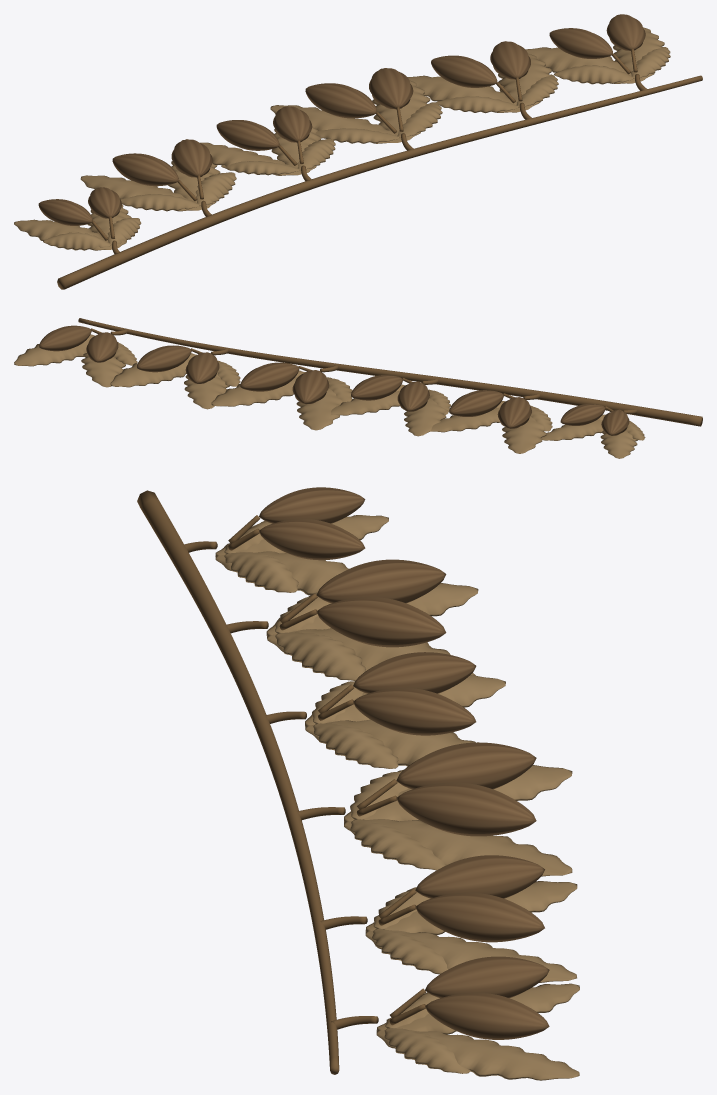
3 views of the same model, one above another, from view 1: azimuth 30°, elevation 25°; view 2: azimuth 150°, elevation 25°; view 3: azimuth 270°, elevation 25° (orthographic). The views are drawn at different scales.
Visible parts, largest first — view 1: Palaeocarpinus complete art reconstruction; view 2: Palaeocarpinus complete art reconstruction; view 3: Palaeocarpinus complete art reconstruction.
Part boxes in pixels (bbox=[...]): Palaeocarpinus complete art reconstruction: bbox=[14, 14, 702, 289]; Palaeocarpinus complete art reconstruction: bbox=[14, 318, 702, 458]; Palaeocarpinus complete art reconstruction: bbox=[137, 487, 579, 1080].
Size of the model in its own units: 0.045 by 0.00279 by 0.0147.
